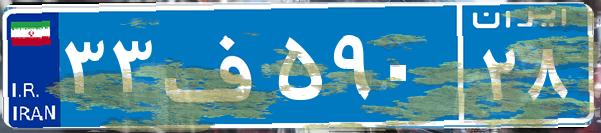0: (385, 28, 445, 110)
2: (475, 38, 525, 113)
3: (57, 26, 110, 107), (110, 28, 158, 105)
5: (273, 28, 330, 110)
8: (525, 38, 570, 115)
9: (330, 28, 385, 110)
ف: (158, 15, 273, 115)
